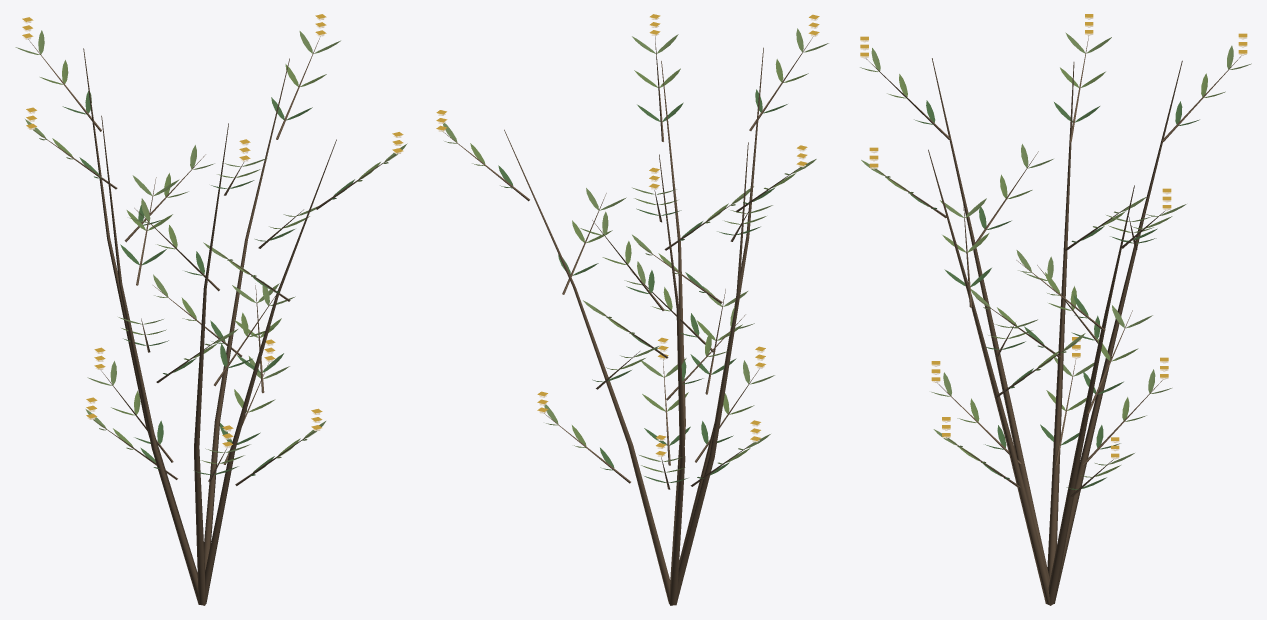
Rendered from BruyereFine_2_Low.fbx.
3 renders of one model, left to right at view 1: azimuth 30°, elevation 25°; view 2: azimuth 150°, elevation 25°; view 3: azimuth 270°, elevation 25°, orthographic. The views are drawn at different scales.
Visible parts, largest first — view 1: BruyereFine_2_Low; view 2: BruyereFine_2_Low; view 3: BruyereFine_2_Low.
Part boxes in pixels (box(x1,y1,x2,y2)): BruyereFine_2_Low: box(15, 14, 407, 605); BruyereFine_2_Low: box(436, 14, 828, 605); BruyereFine_2_Low: box(860, 14, 1251, 605).
Bounding box in the file's own units: 111 × 168 × 111.
